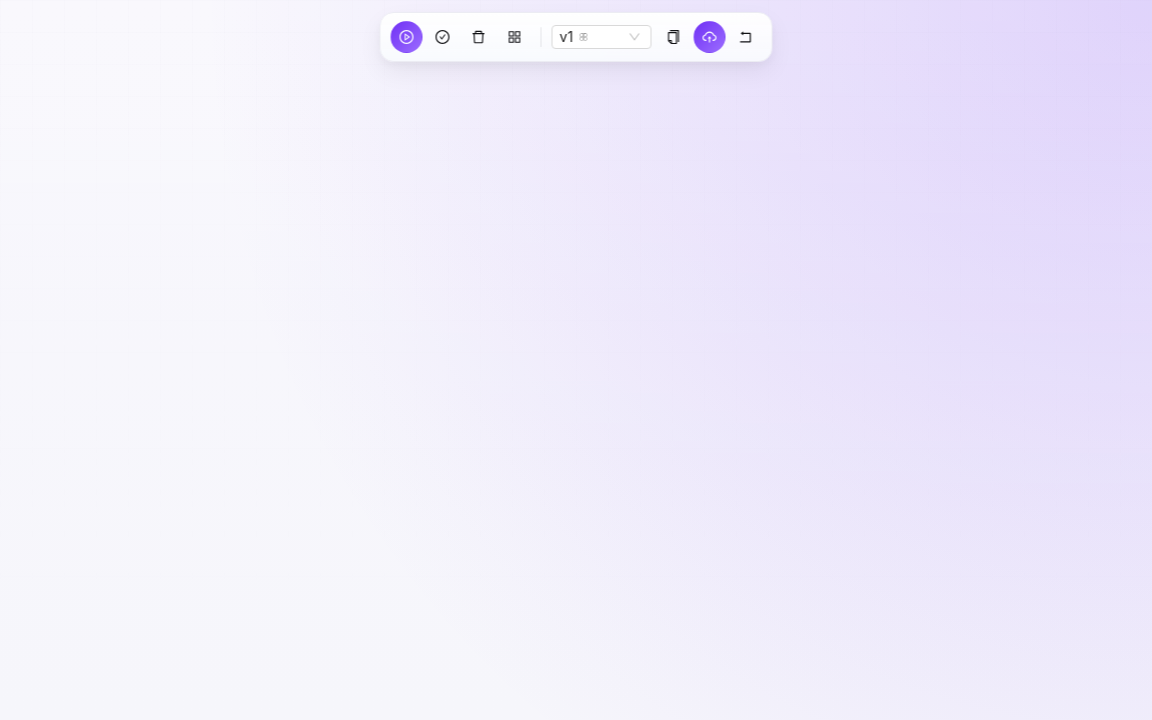
it: CanvasFloatingToolbar › click Publish As opens the name dialog
Click the button with test id "floating-btn-publish-as" at (674, 37), box [658,21,690,53]
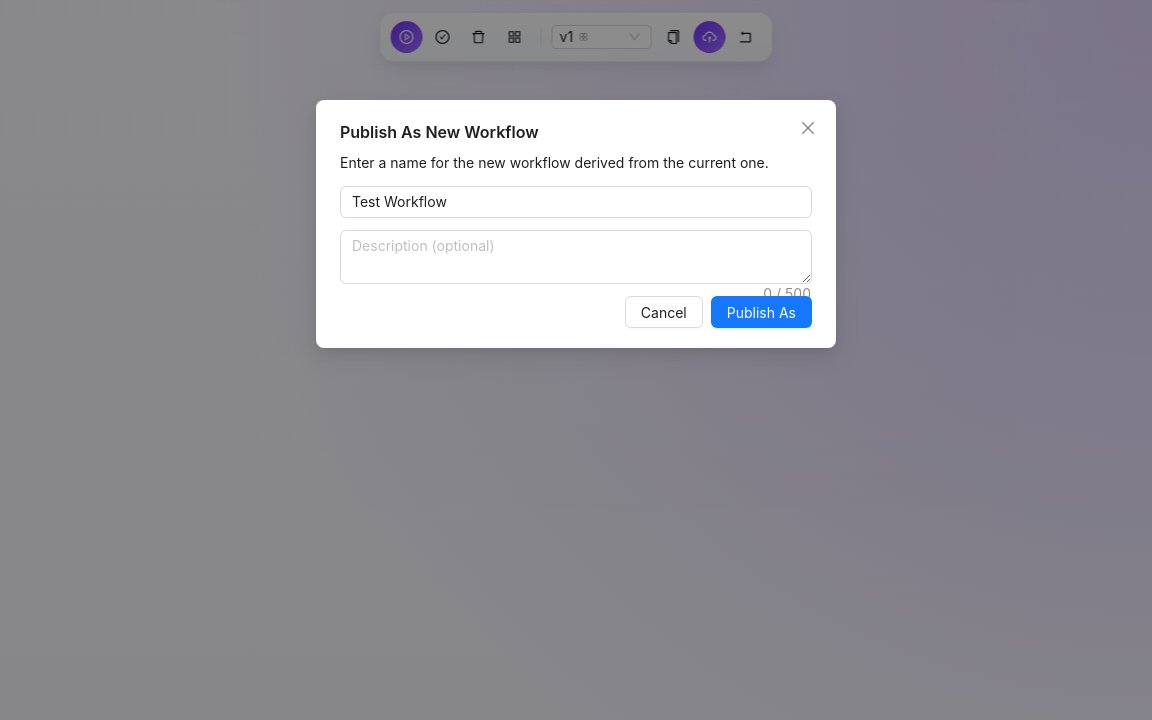
Check: the field with test id "workflow-name-dialog-input" is shown, box [340,186,812,218]
